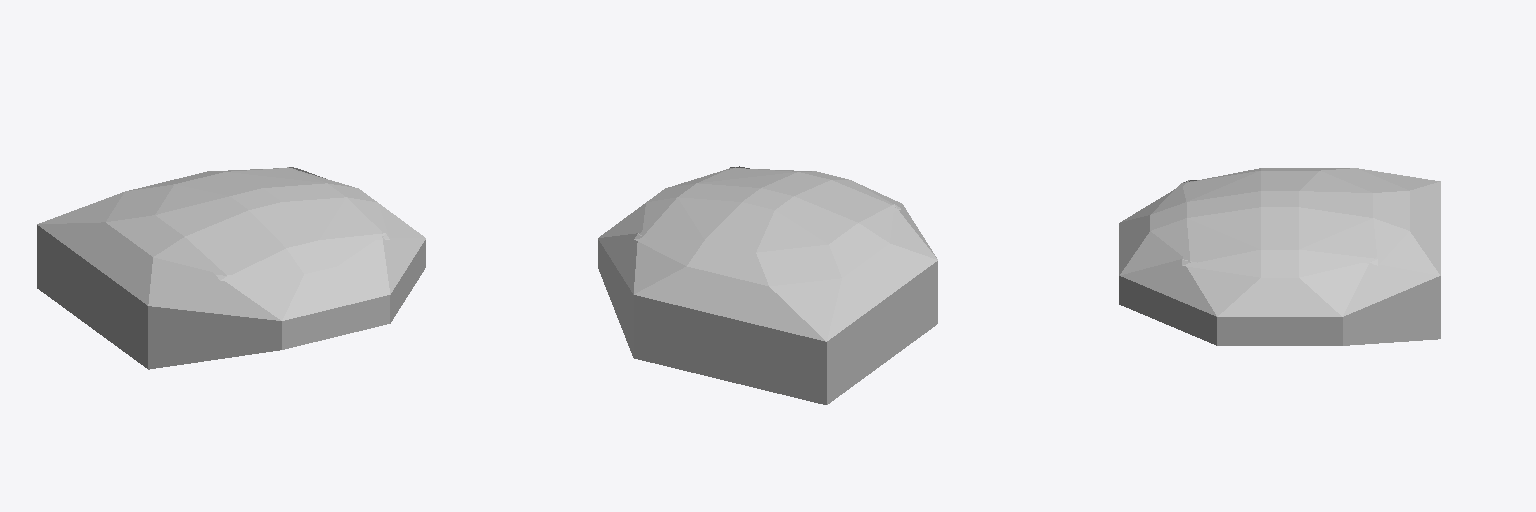
Rendered from complicated.obj.
3 views of the same model, side by side, from view 1: azimuth 30°, elevation 25°; view 2: azimuth 150°, elevation 25°; view 3: azimuth 270°, elevation 25° (orthographic).
Parts seen in each view (by area): view 1: Cube; view 2: Cube; view 3: Cube.
Part boxes in pixels (bbox=[...]): Cube: bbox=[37, 167, 425, 369]; Cube: bbox=[598, 166, 937, 404]; Cube: bbox=[1119, 168, 1440, 345].
Size of the model in its own units: 7.75 by 3.03 by 7.75.